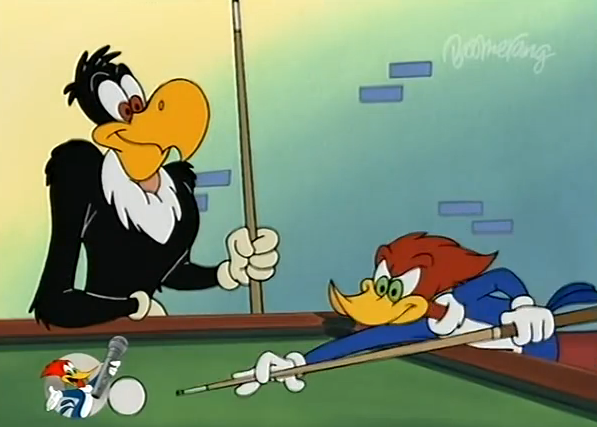picapau: (245, 206, 597, 427)
urubu: (28, 26, 296, 347)
